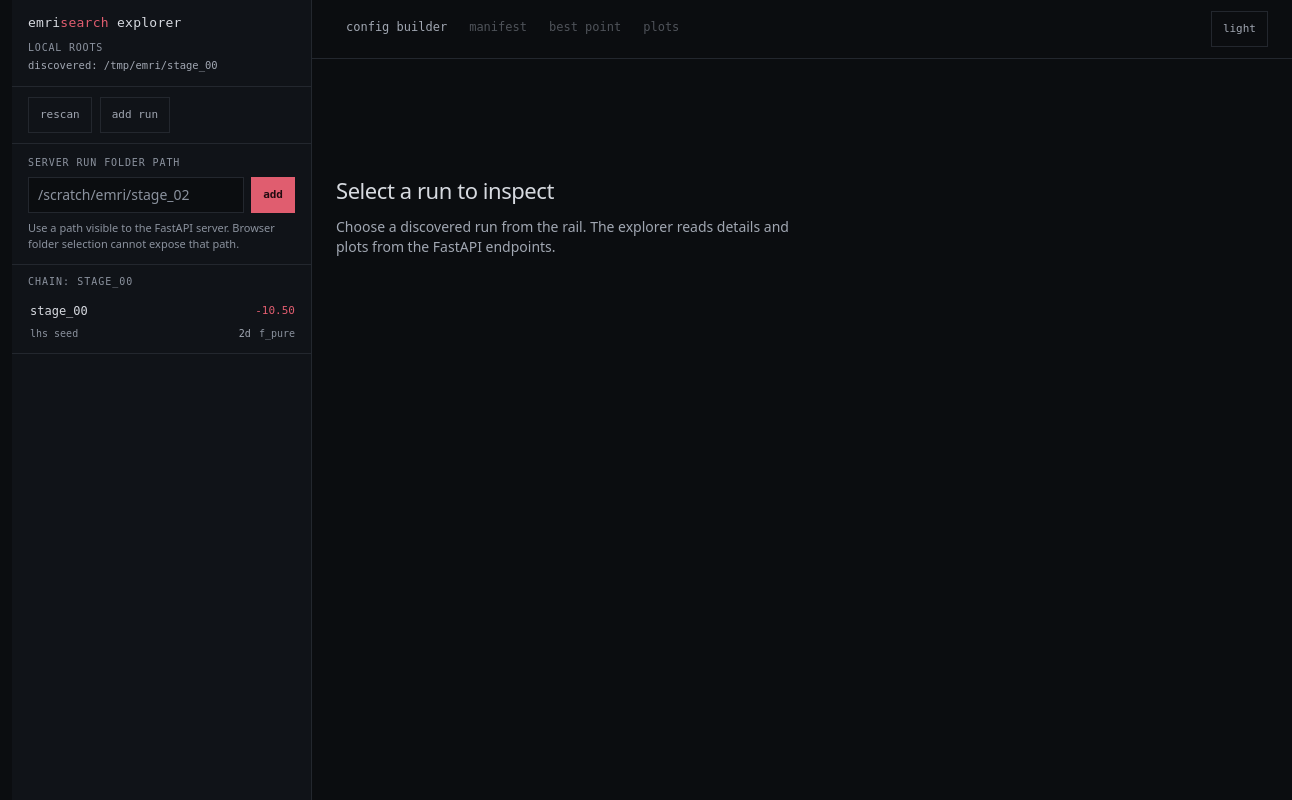
Test: add-run workflow › validates an empty path in the browser and does not post
Expected: the button "stage_00 -10.50 lhs seed 2df_pure" is shown, x1=12 y1=295 x2=311 y2=353
Click the button "add": (273, 195) x1=251 y1=177 x2=295 y2=213
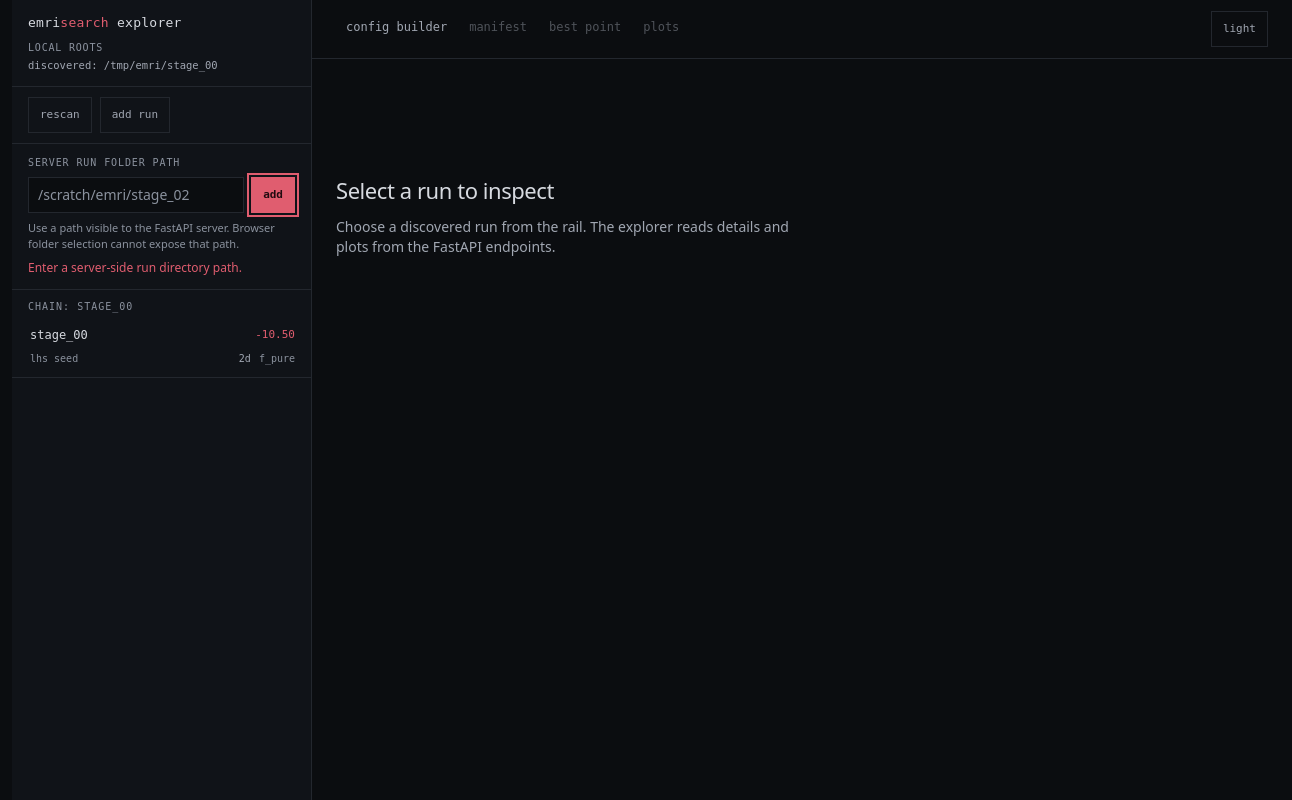
Result: the message reads "Enter a server-side run directory path." at x1=28 y1=259 x2=242 y2=276
